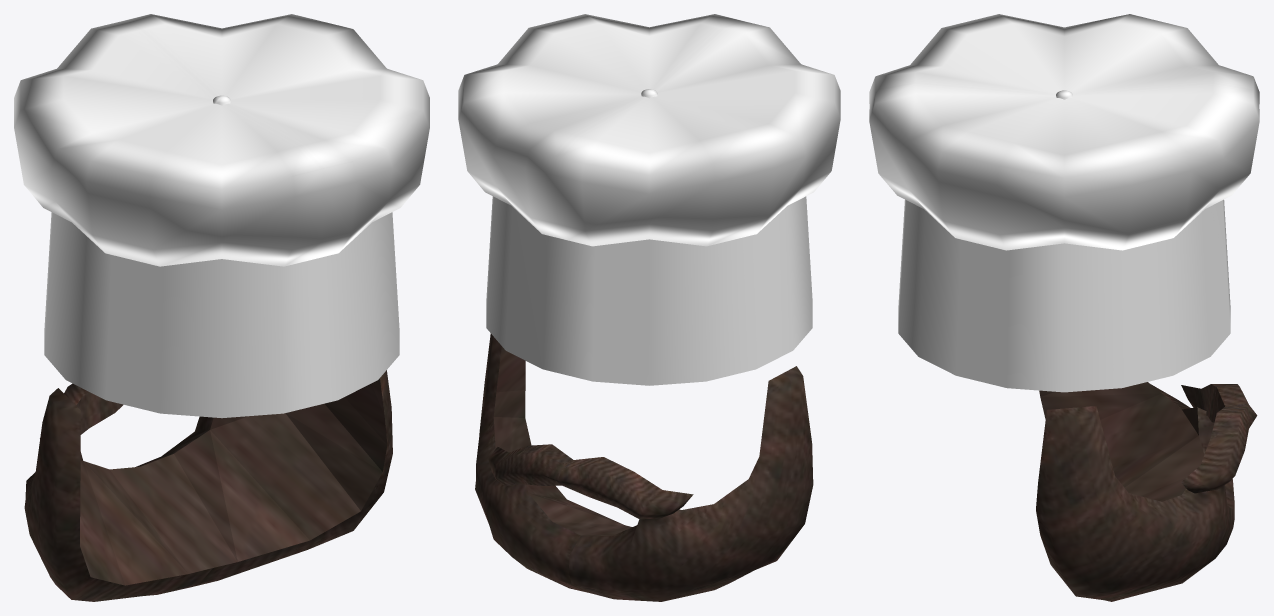
The model's file is acc.glb.
3 views of the same model, side by side, from view 1: azimuth 30°, elevation 25°; view 2: azimuth 150°, elevation 25°; view 3: azimuth 270°, elevation 25° (orthographic). The views are drawn at different scales.
Parts seen in each view (by area): view 1: Chef Hat, Handle; view 2: Chef Hat, Handle; view 3: Chef Hat, Handle.
Part boxes in pixels (x1,y1,x2,y2): Chef Hat: (14, 14, 429, 418); Handle: (24, 370, 392, 601); Chef Hat: (458, 14, 840, 385); Handle: (475, 333, 813, 601); Chef Hat: (869, 14, 1259, 392); Handle: (1036, 382, 1257, 601).
Bounding box in the file's own units: 1.37 × 1.97 × 1.43.
Materials: 2 (2 with a texture image).
